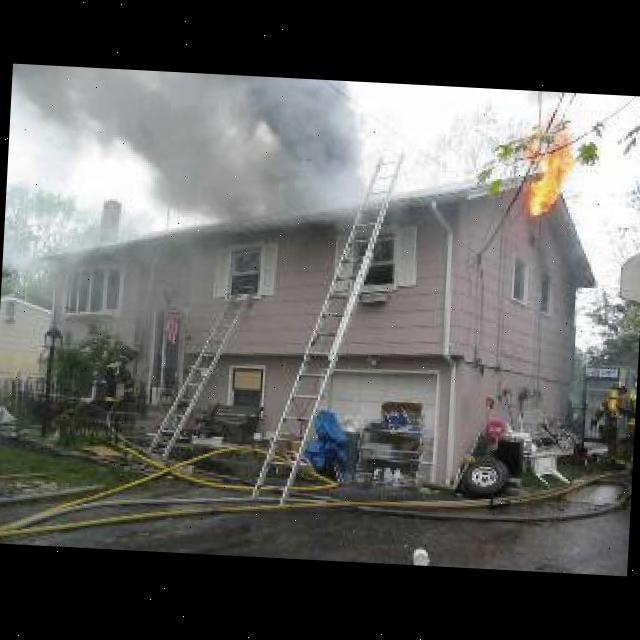fire: (11, 64, 368, 230), (520, 136, 574, 215)
